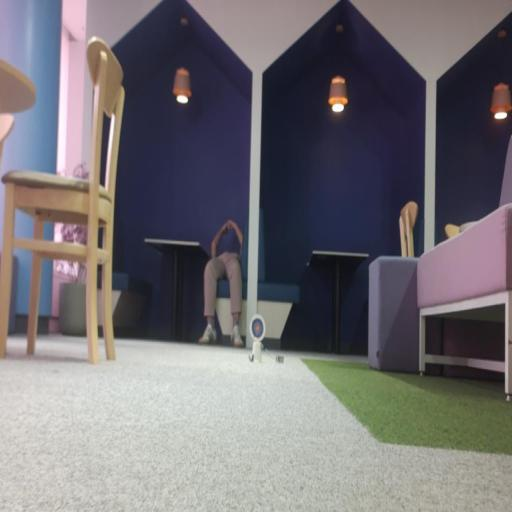target: (250, 314, 265, 342)
